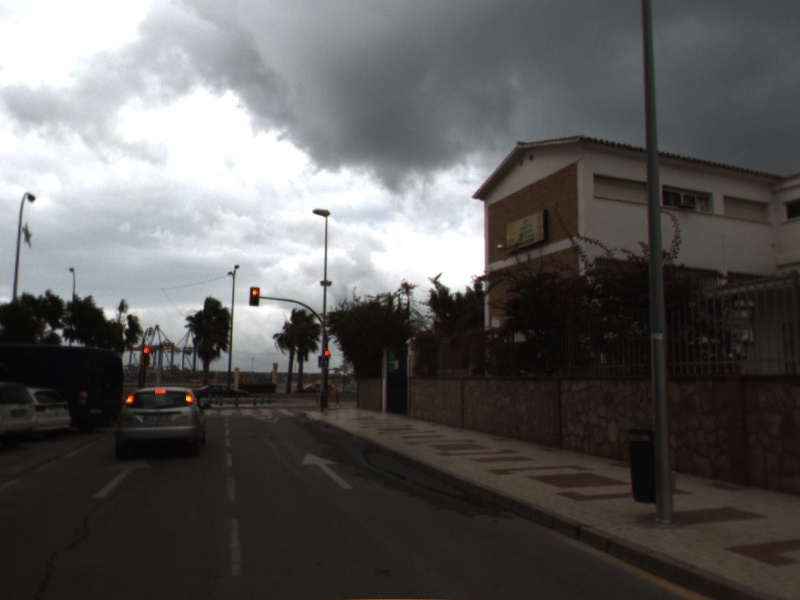STRAIGHT: (90, 454, 155, 500), (298, 449, 357, 493)
